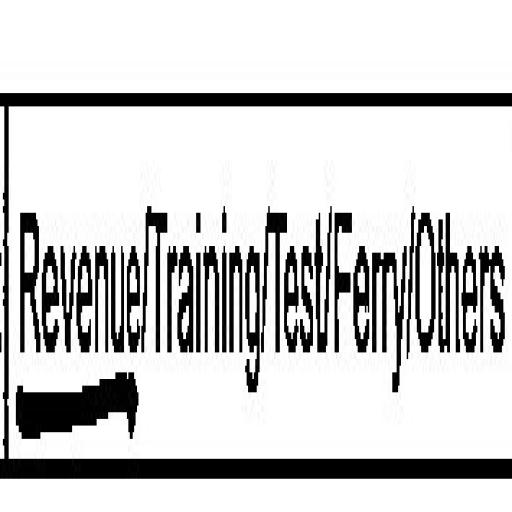check: (6, 69, 142, 512)
